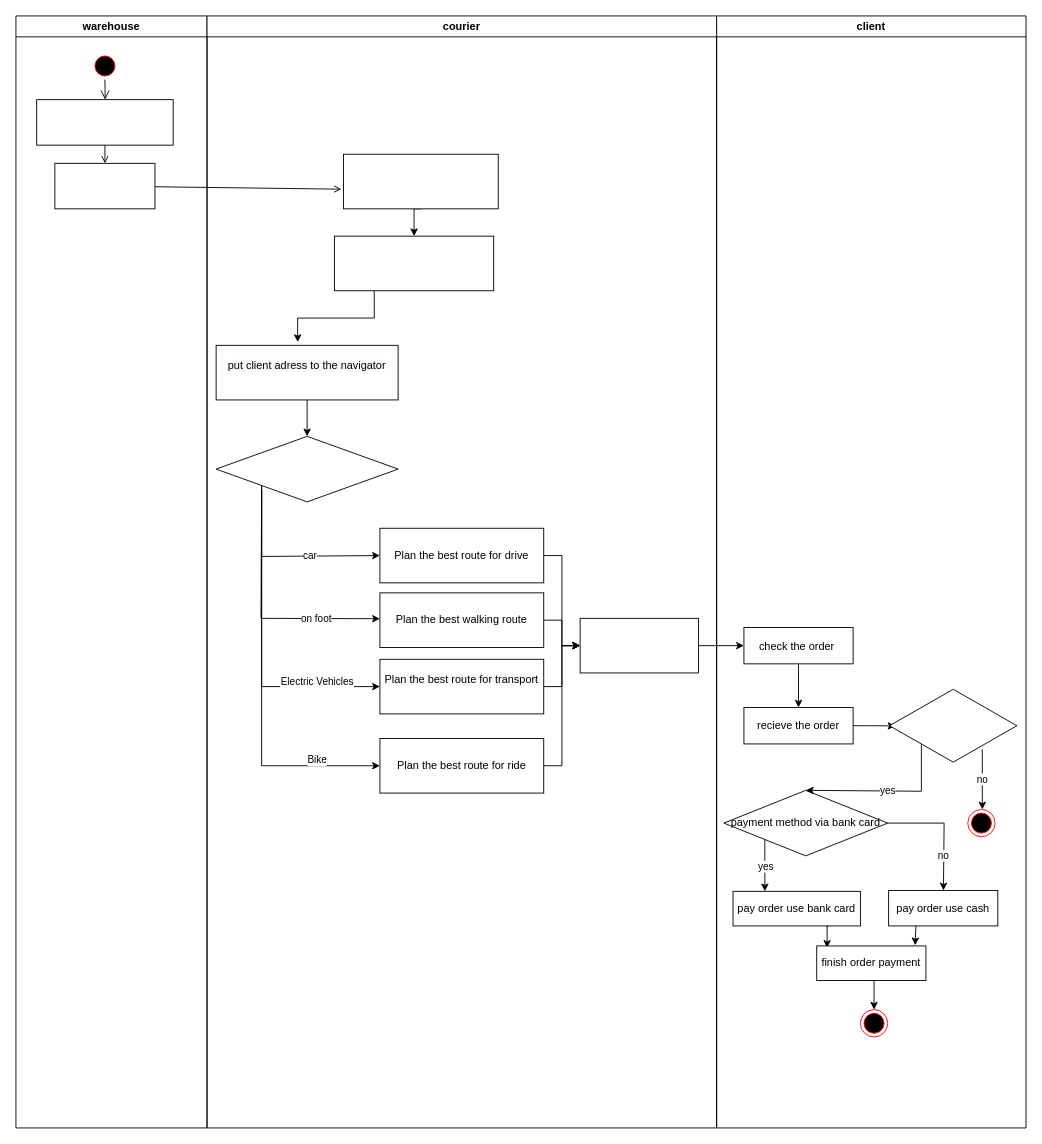
Image size: 1042x1144. Some labels were removed from this diagram. Here are the shapes that lost their labels. From the top down, the centre of each, then its label:
At (104,122): "check the stock and order".
At (104,185): "packing the order".
At (420,181): "Delivery of book orders to courier distribution centres".
At (414,263): "check client adress".
At (306,468): "select courier delivery transport".
At (638,645): "handover the order to the client".
At (953,725): "payment method".
